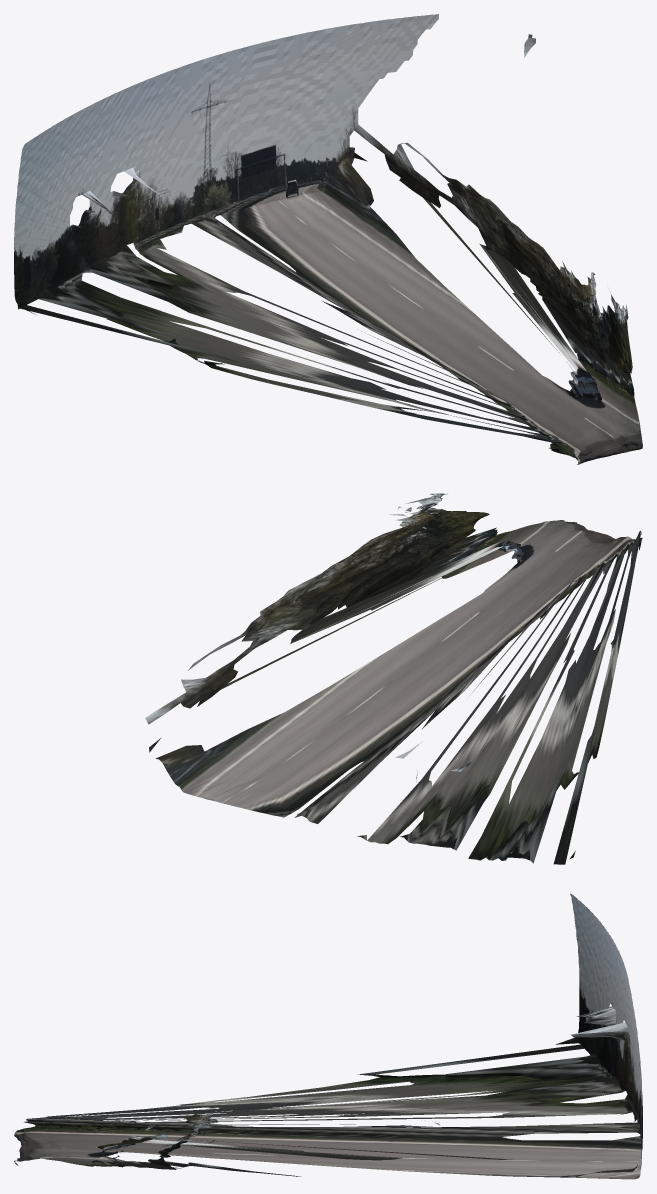
3 views of the same model, one above another, from view 1: azimuth 30°, elevation 25°; view 2: azimuth 150°, elevation 25°; view 3: azimuth 270°, elevation 25° (orthographic). The views are drawn at different scales.
Visible parts, largest first — view 1: defaultobject; view 2: defaultobject; view 3: defaultobject.
Boxes of the visible parts, x1=… form: defaultobject: x1=14, y1=14, x2=642, y2=464; defaultobject: x1=145, y1=493, x2=642, y2=864; defaultobject: x1=14, y1=893, x2=642, y2=1179.
Bounding box in the file's own units: 38.53 × 13.02 × 44.52.
1 material, 1 textured.
